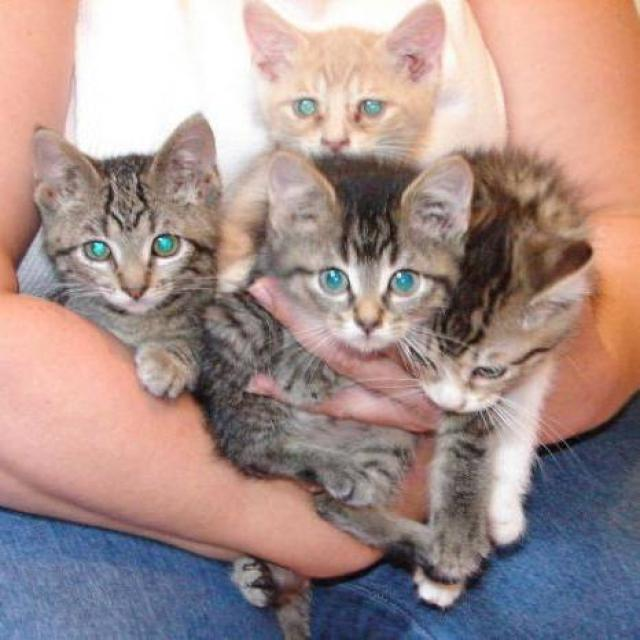cat: (202, 141, 597, 632), (29, 110, 225, 399)
